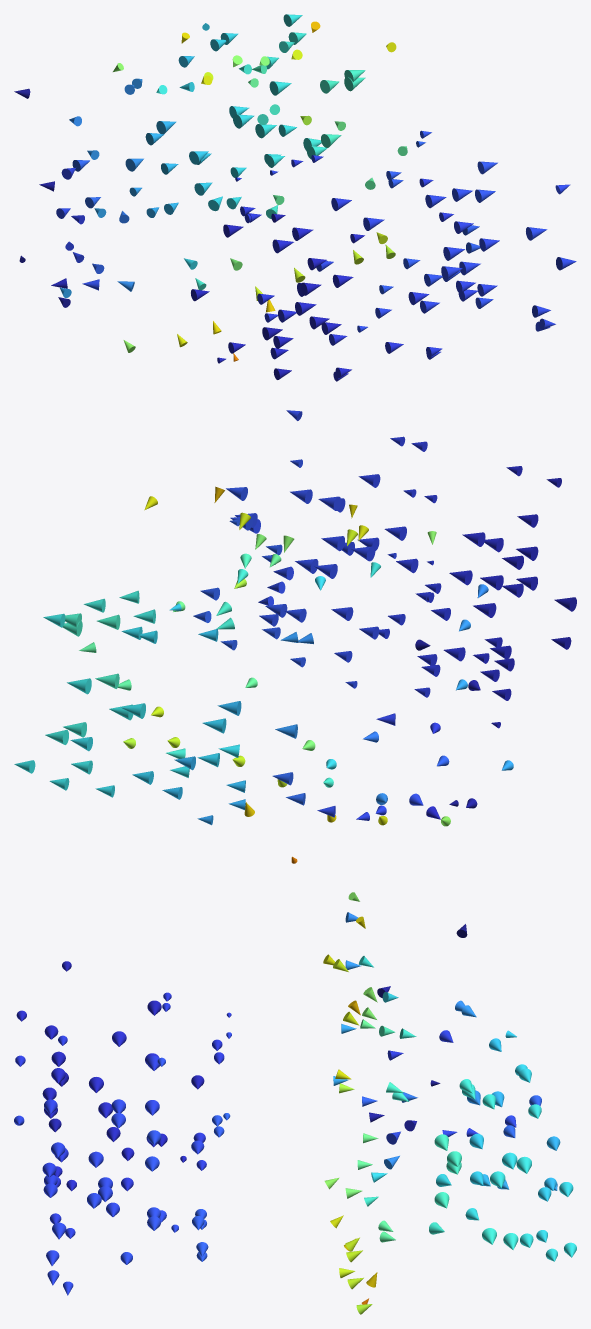
File: LineasCorrienteN2-H2O_mh2-2.70_V-0.9.glb
3 renders of one model, top to bottom at view 1: azimuth 30°, elevation 25°; view 2: azimuth 150°, elevation 25°; view 3: azimuth 270°, elevation 25°, orthographic. The views are drawn at different scales.
Bounding box in the file's own units: 0.000984 × 0.00084 × 0.00118.
Materials: 2 (2 with a texture image).
